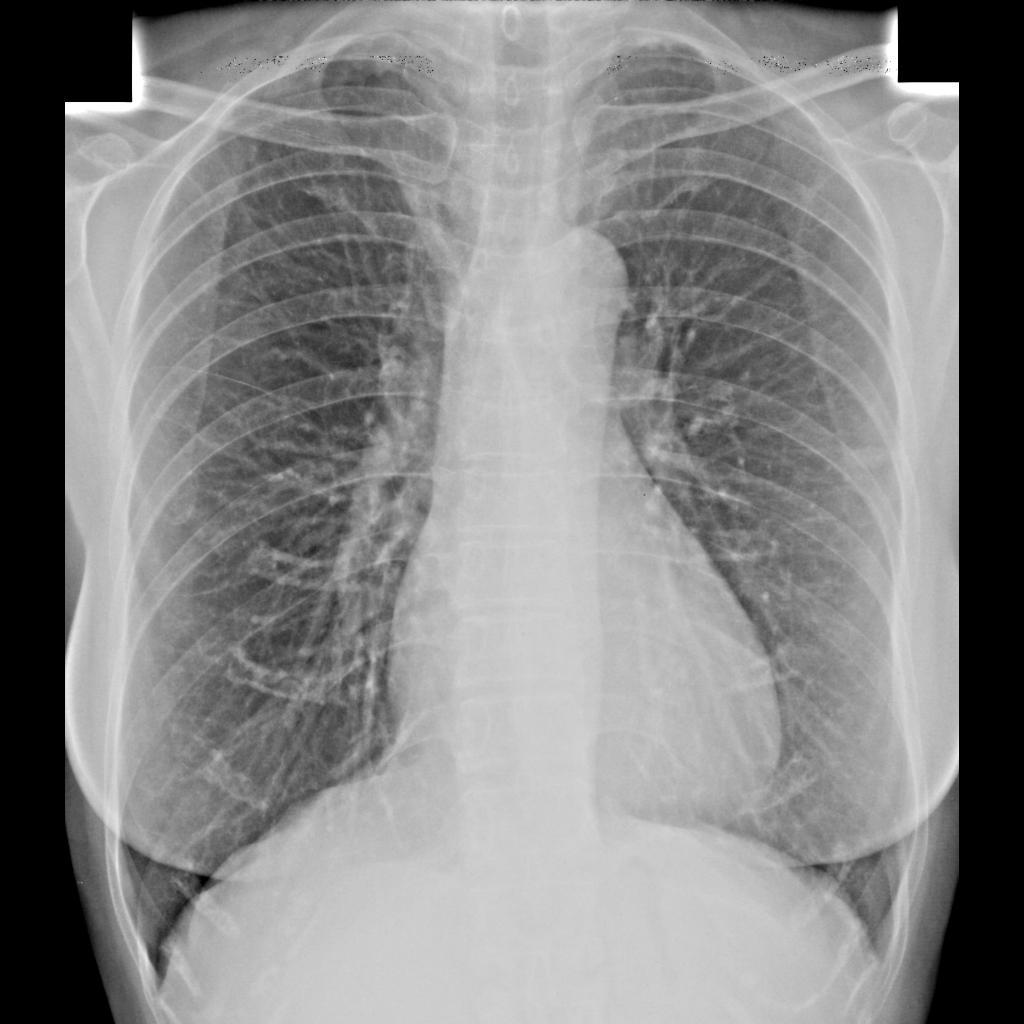Nodule: (840, 439, 884, 482)
